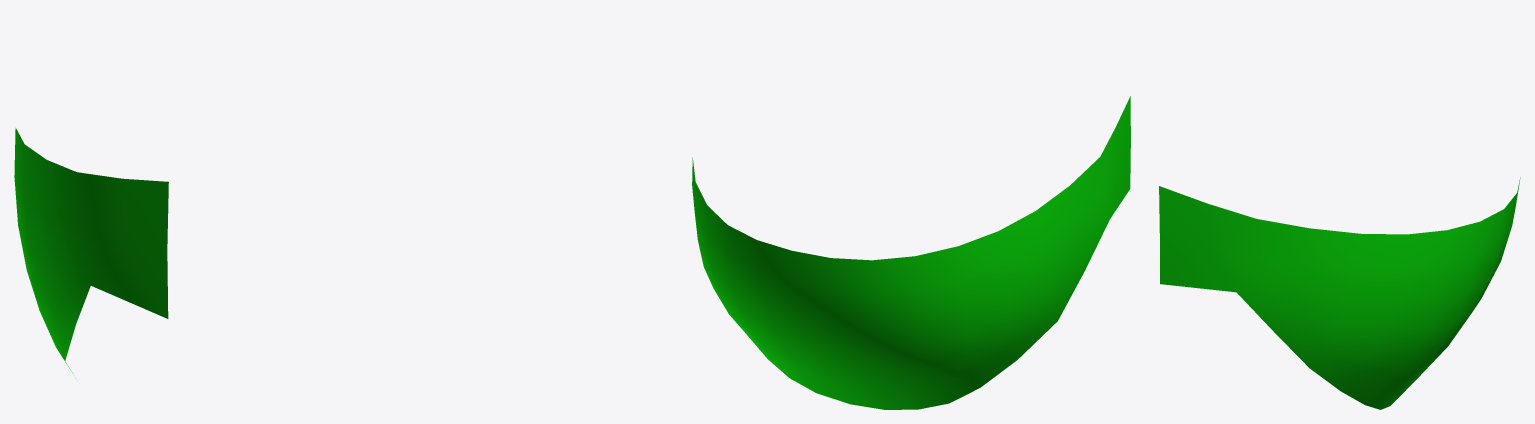
The model's file is Hair1_34.glb.
The picture shows the model from 3 angles, left to right: view 1: azimuth 30°, elevation 25°; view 2: azimuth 150°, elevation 25°; view 3: azimuth 270°, elevation 25°; orthographic projection. The views are drawn at different scales.
Bounding box in the file's own units: 52.61 × 36.59 × 42.71.
